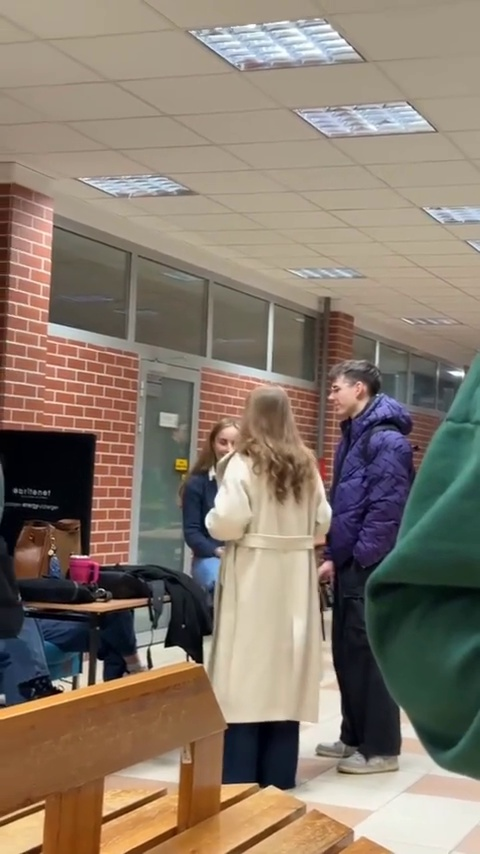no vest: (211, 376, 324, 731), (319, 362, 421, 733)
